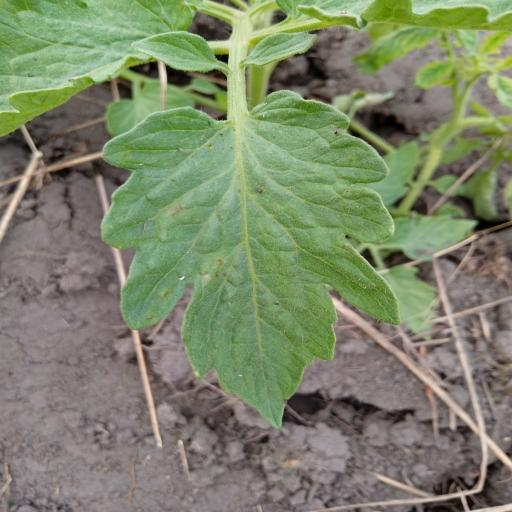Tomato_Mildiou: (91, 83, 410, 431)
